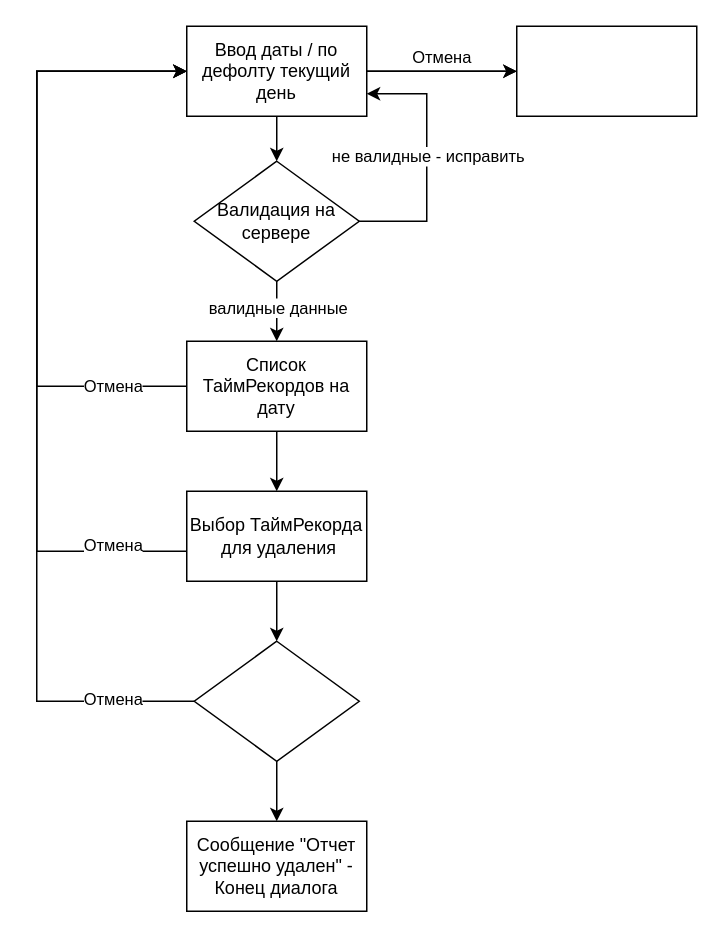
The diagram is 723 pixels wide and 938 high, and some of its shapes have lost their labels. The shapes that lost their labels are listed below. From the top down, each one's centre as x and y in pixels, then its label:
At (606,70): "Возврат в главное меню".
At (276,700): "Подтвердить удаление".
